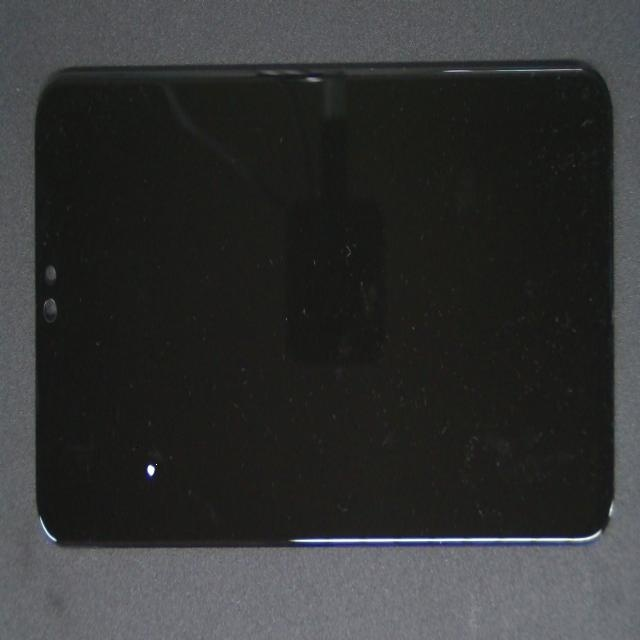stain: (63, 212, 207, 640)
